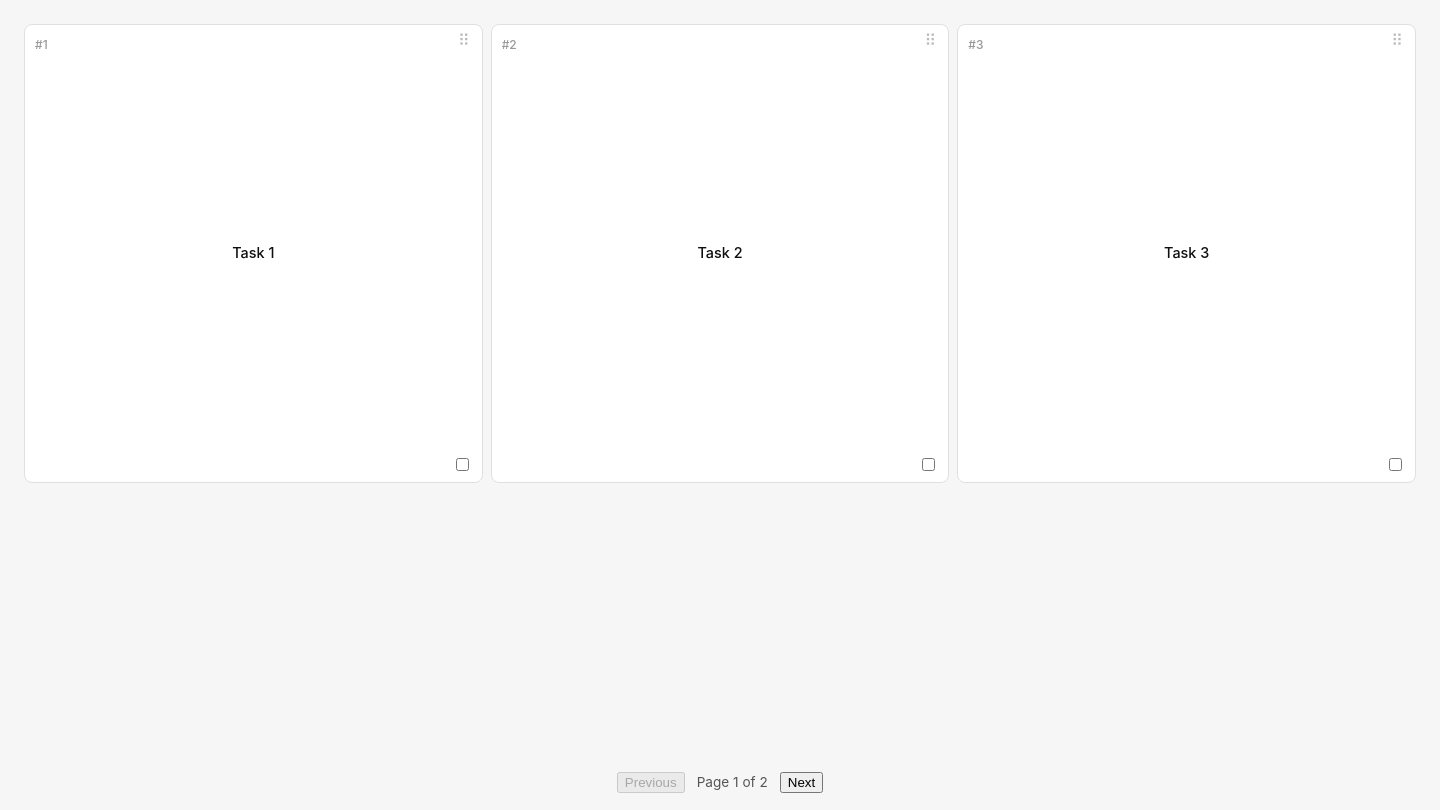
Test case: GridView concurrent safety & optimistic revert › page-boundary: page 2 cards show correct global indices with startIndex
// Navigate to page 2
Click the button "Next" at x=802, y=782, box [780,772,823,792]
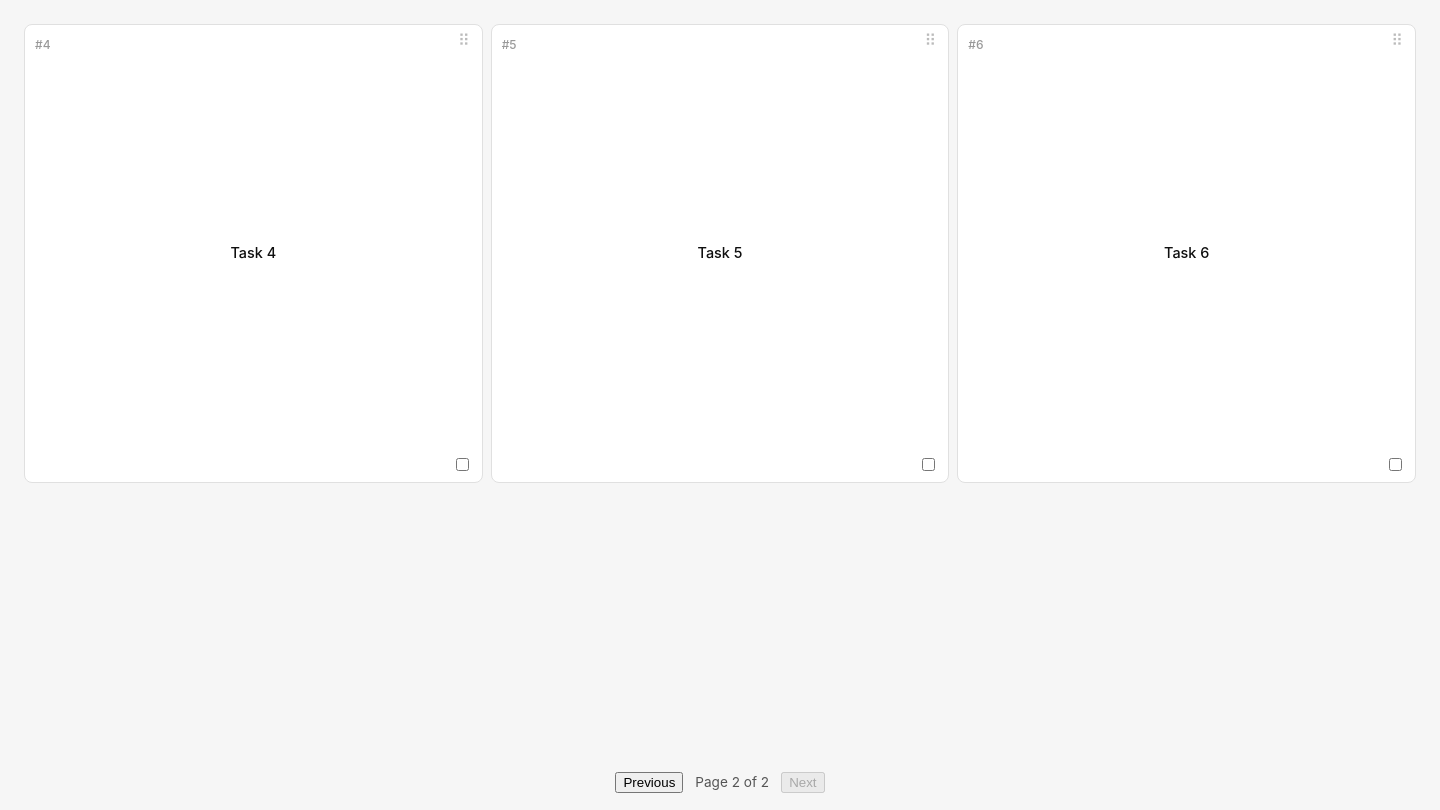
Now the text "#4" is shown, box [35,33,50,57]
Now the text "#5" is shown, box [502,33,517,57]
Now the text "#6" is shown, box [968,33,984,57]
